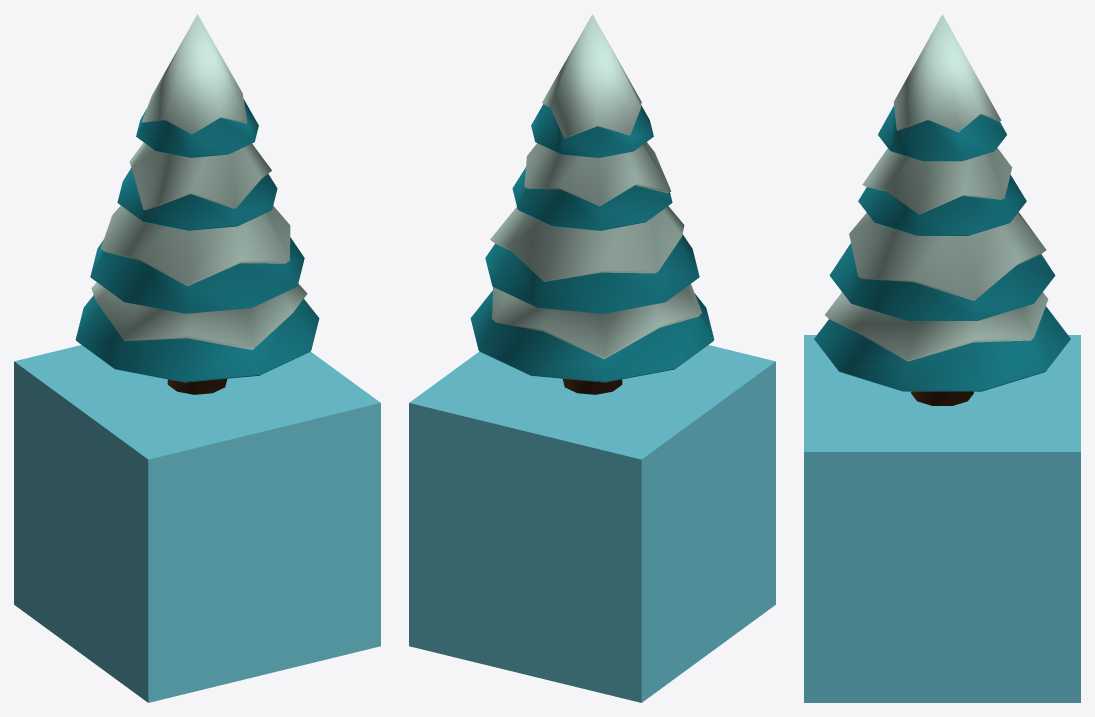
Rendered from IcePineTreeBlender.glb.
The picture shows the model from 3 angles, left to right: view 1: azimuth 30°, elevation 25°; view 2: azimuth 150°, elevation 25°; view 3: azimuth 270°, elevation 25°; orthographic projection. The views are drawn at different scales.
Parts seen in each view (by area): view 1: WinterGroundIce, WinterIceTreePineTall; view 2: WinterGroundIce, WinterIceTreePineTall; view 3: WinterGroundIce, WinterIceTreePineTall.
Boxes of the visible parts, box(x1,y1,x2,y2) form: WinterGroundIce: box(14, 345, 380, 702); WinterIceTreePineTall: box(75, 14, 319, 394); WinterGroundIce: box(409, 345, 775, 702); WinterIceTreePineTall: box(470, 14, 714, 394); WinterGroundIce: box(804, 335, 1080, 702); WinterIceTreePineTall: box(814, 14, 1070, 405).
Bounding box in the file's own units: 2 × 5.03 × 2.
Materials: 1 (1 with a texture image).
